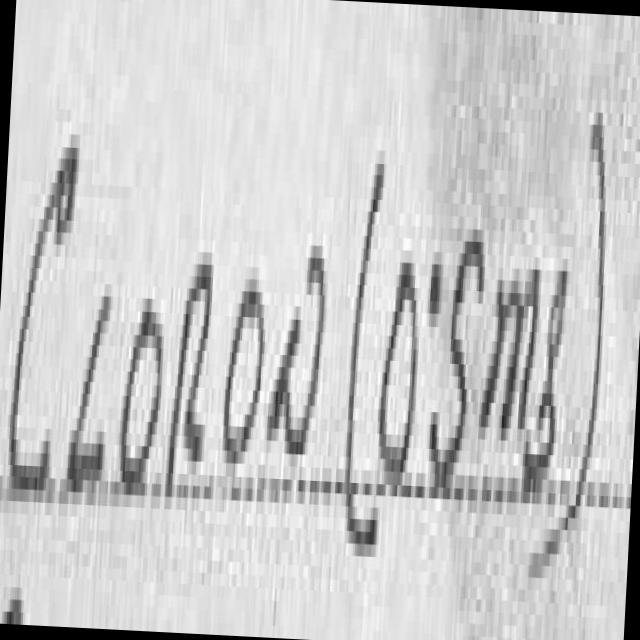0: (380, 263, 419, 484)
5: (433, 241, 485, 499)
C: (11, 147, 76, 489)
L: (68, 286, 114, 488)
N: (271, 296, 325, 475)
O: (123, 299, 161, 489), (225, 291, 263, 463)
R: (165, 254, 215, 491)
g: (525, 271, 568, 486)
m: (481, 261, 541, 435)
